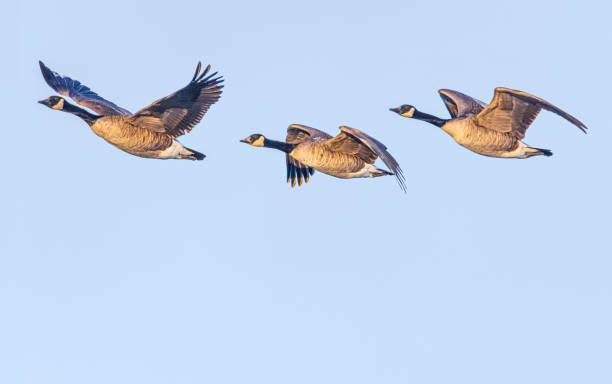Canadian-Goose: (34, 60, 224, 165), (385, 82, 587, 163), (238, 121, 411, 194)
